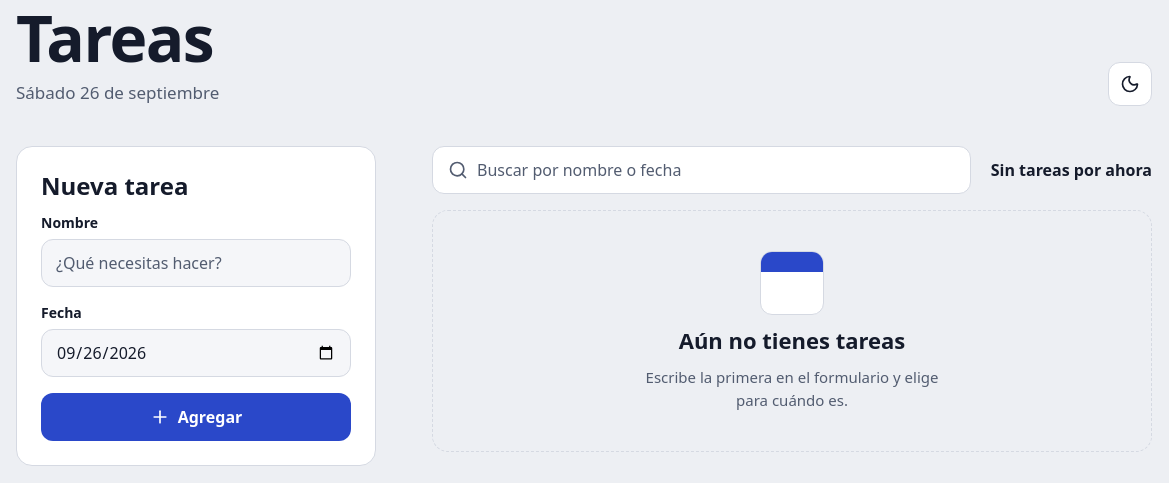
Test: adds tasks to the list
This screenshot has width=1169, height=483.
Type "Comprar pan y café" into the field labelled "Nombre" at (196, 262), box x1=41 y1=238 x2=351 y2=286
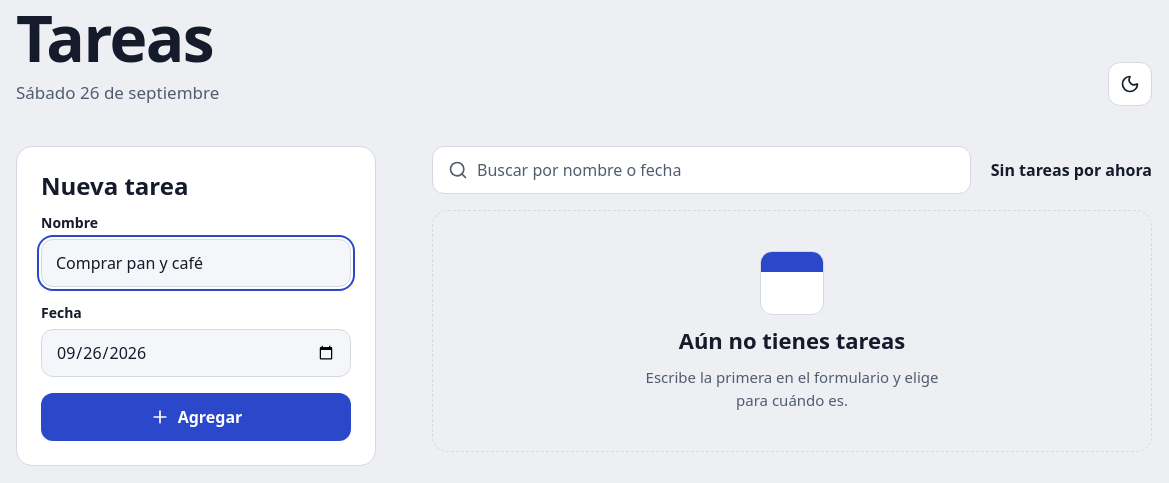
Click the button "Agregar" at (196, 416), box x1=41 y1=392 x2=351 y2=440
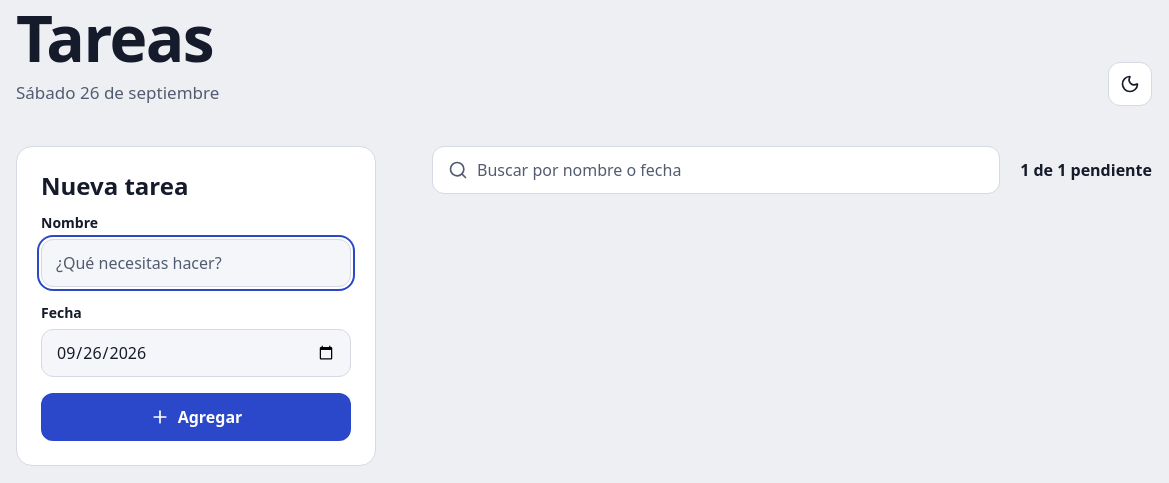
Expected: the message reads "1 de 1 pendiente", x1=1020 y1=158 x2=1152 y2=180
